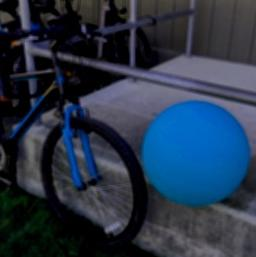algae: (137, 98, 251, 206)
